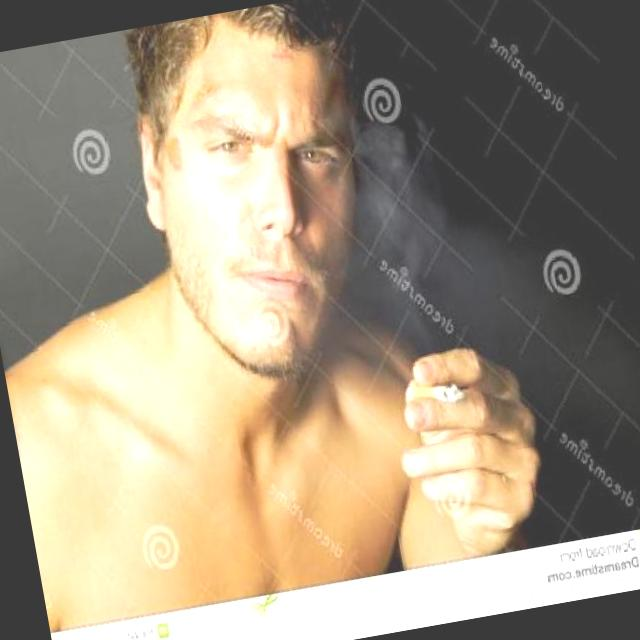smoke: (410, 376, 465, 412)
